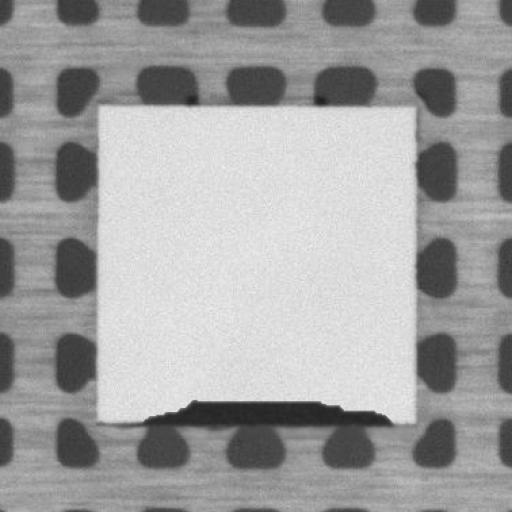DIE_BROKEN: (133, 390, 397, 426)
